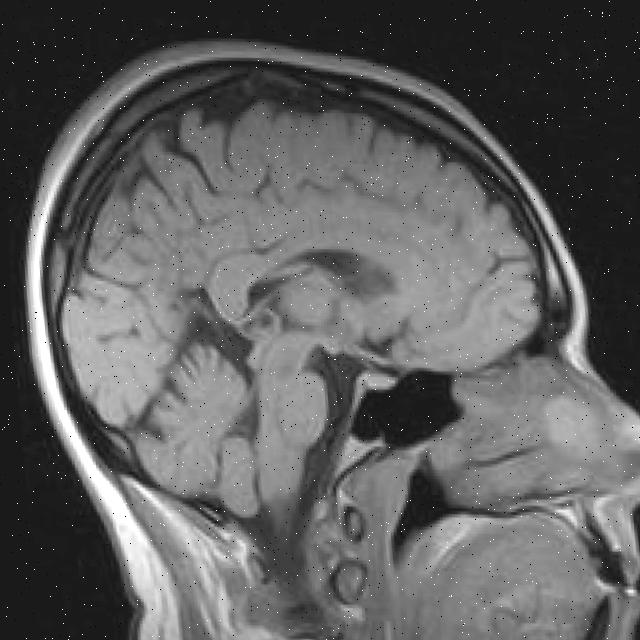NoTumor: (3, 3, 610, 549)
